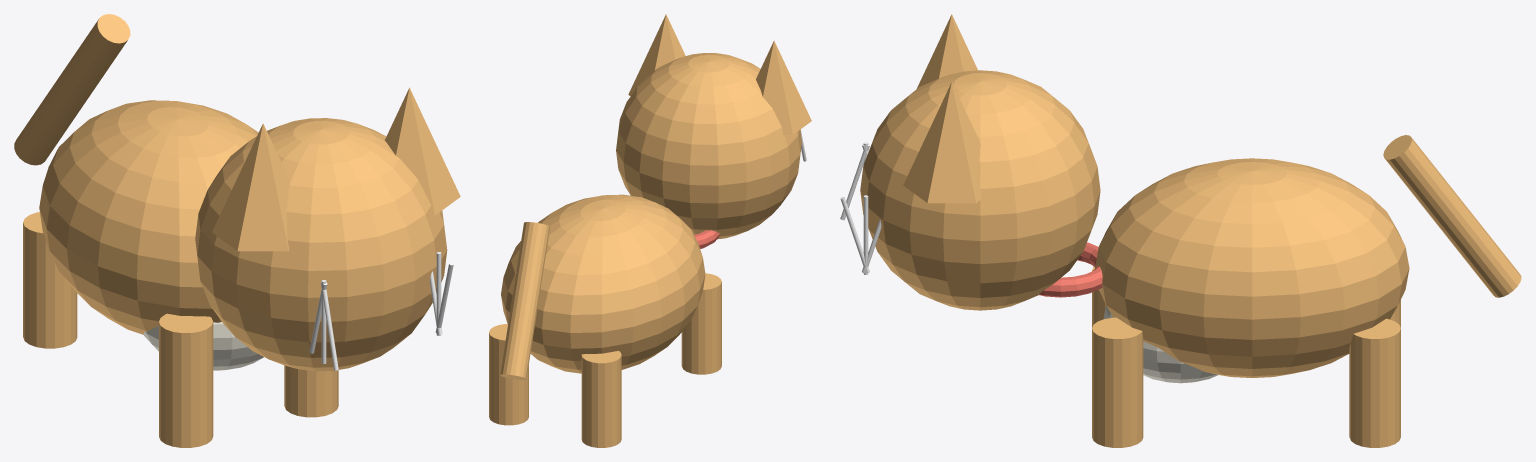
Rendered from cat.glb.
The picture shows the model from 3 angles, left to right: view 1: azimuth 30°, elevation 25°; view 2: azimuth 150°, elevation 25°; view 3: azimuth 270°, elevation 25°; orthographic projection. The views are drawn at different scales.
Parts seen in each view (by area): view 1: CtHead, CtBody, CtLeg, CtEarL, CtTail, CtLeg.002, CtEarR, CtLeg.001, CtBelly, CtWhisker; view 2: CtHead, CtBody, CtTail, CtLeg.002, CtLeg, CtLeg.003, CtEarL, CtEarR; view 3: CtBody, CtHead, CtTail, CtLeg.001, CtLeg.003, CtEarR, CtEarL, CtBelly, CtCollar.
Part boxes in pixels (x1,y1,x2,y2): CtHead: (195, 118, 447, 371); CtBody: (39, 100, 258, 334); CtLeg: (159, 313, 213, 447); CtEarL: (212, 123, 290, 251); CtTail: (14, 14, 130, 165); CtLeg.002: (23, 212, 77, 348); CtEarR: (384, 87, 460, 215); CtLeg.001: (284, 365, 338, 417); CtBelly: (143, 322, 263, 370); CtWhisker: (320, 282, 338, 370); CtHead: (616, 53, 801, 239); CtBody: (501, 194, 705, 373); CtTail: (500, 222, 550, 379); CtLeg.002: (581, 351, 621, 447); CtLeg: (681, 273, 721, 374); CtLeg.003: (489, 324, 528, 425); CtEarL: (756, 40, 811, 134); CtEarR: (628, 14, 685, 96); CtBody: (1095, 158, 1409, 377); CtHead: (860, 70, 1100, 310); CtTail: (1383, 135, 1521, 297); CtLeg.001: (1092, 317, 1143, 447); CtLeg.003: (1349, 318, 1400, 447); CtEarR: (903, 82, 982, 203); CtEarL: (917, 14, 977, 88); CtBelly: (1103, 306, 1217, 383); CtCollar: (1039, 242, 1102, 297).
Bounding box in the file's own units: 0.8544 × 1.39 × 2.38.
